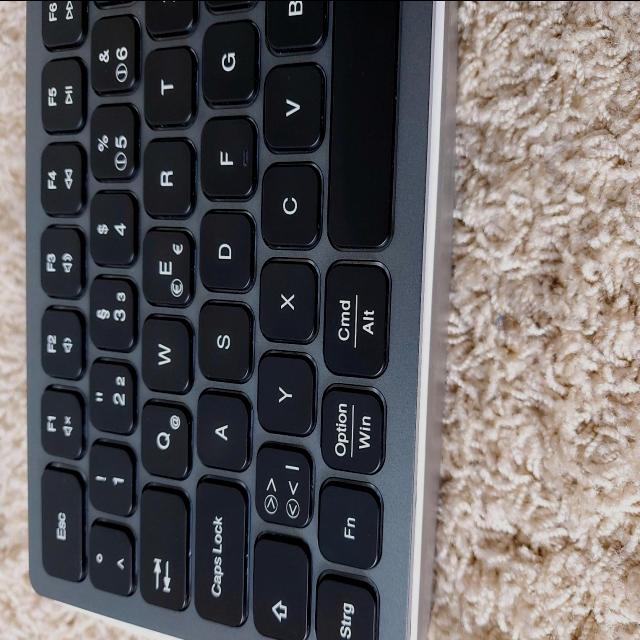1: (86, 443, 132, 519)
2: (86, 360, 134, 437)
3: (87, 275, 135, 355)
4: (87, 190, 135, 269)
5: (87, 101, 137, 183)
6: (87, 13, 139, 96)
a: (193, 391, 249, 474)
alt-left: (320, 258, 390, 383)
b: (261, 1, 326, 53)
c: (258, 161, 320, 251)
caret: (86, 525, 132, 599)
d: (197, 210, 254, 296)
e: (140, 227, 194, 309)
f: (198, 116, 256, 202)
g: (199, 18, 258, 108)
keyboard: (19, 0, 445, 640)
less: (252, 442, 312, 530)
q: (137, 400, 191, 482)
r: (140, 138, 194, 220)
s: (196, 301, 252, 385)
shift-left: (249, 536, 308, 640)
shift-lock: (191, 477, 247, 633)
space: (326, 0, 396, 251)
strg-left: (311, 575, 377, 640)
t: (141, 45, 195, 130)
tab: (136, 487, 188, 617)
v: (260, 60, 324, 154)
w: (138, 316, 191, 396)
x: (255, 258, 317, 346)
y: (255, 351, 315, 439)
z: (142, 0, 196, 36)
